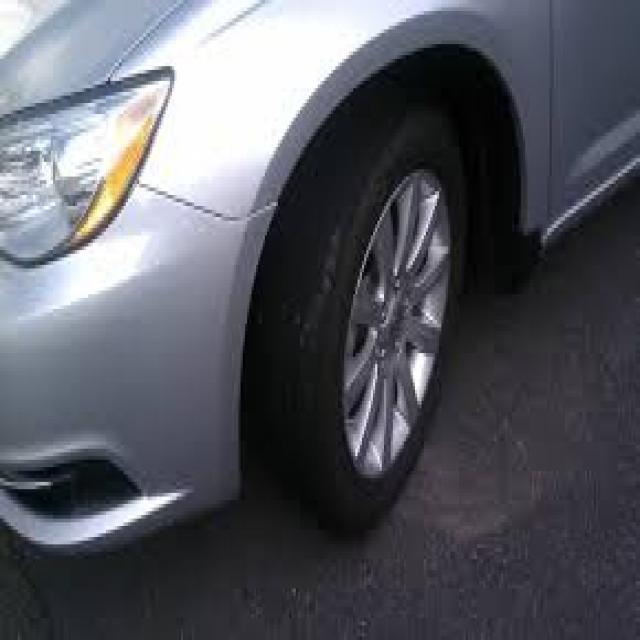minor: (117, 218, 183, 288)
